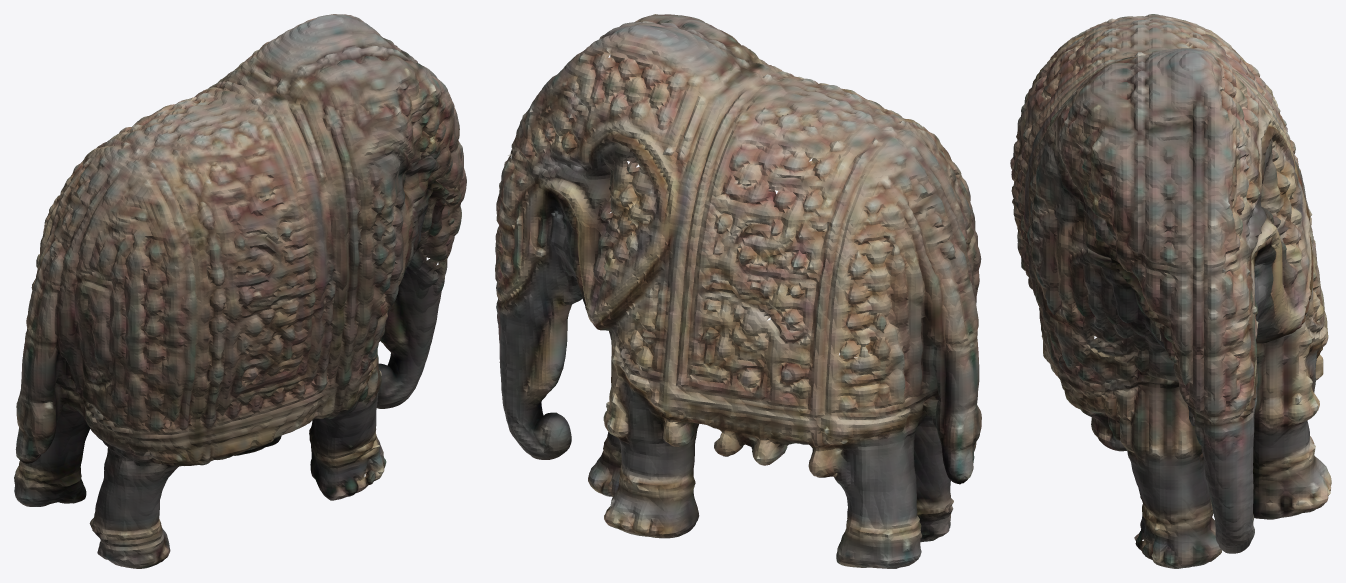
Rendered from elephant_triposr.glb.
The picture shows the model from 3 angles, left to right: view 1: azimuth 30°, elevation 25°; view 2: azimuth 150°, elevation 25°; view 3: azimuth 270°, elevation 25°; orthographic projection. The views are drawn at different scales.
Parts seen in each view (by area): view 1: world; view 2: world; view 3: world.
Part boxes in pixels (<box>): world: <box>14,14,466,568</box>; world: <box>495,14,981,568</box>; world: <box>1010,14,1331,568</box>.
Bounding box in the file's own units: 1.03 × 1.02 × 0.5987.
